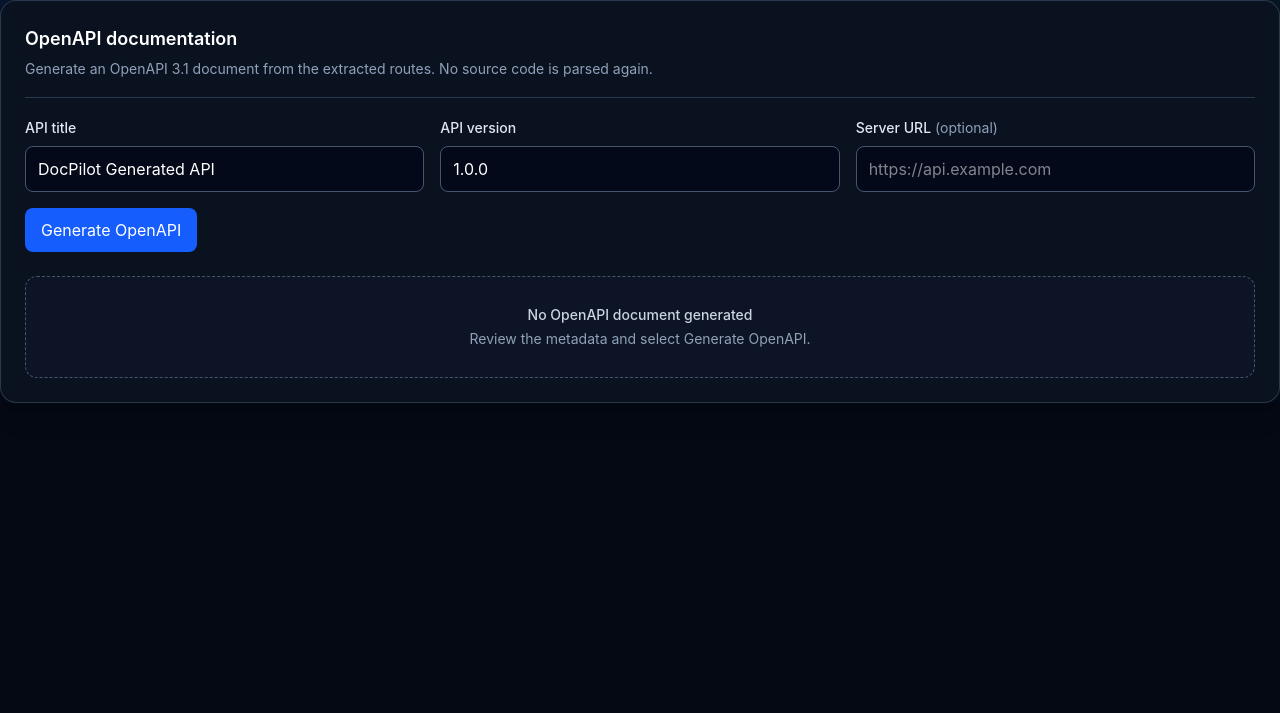
Scenario: OpenApiPanel › renders duplicate and unsupported warnings and switches previews
Click the button "Generate OpenAPI".
click(111, 230)  # box [25,208,197,252]
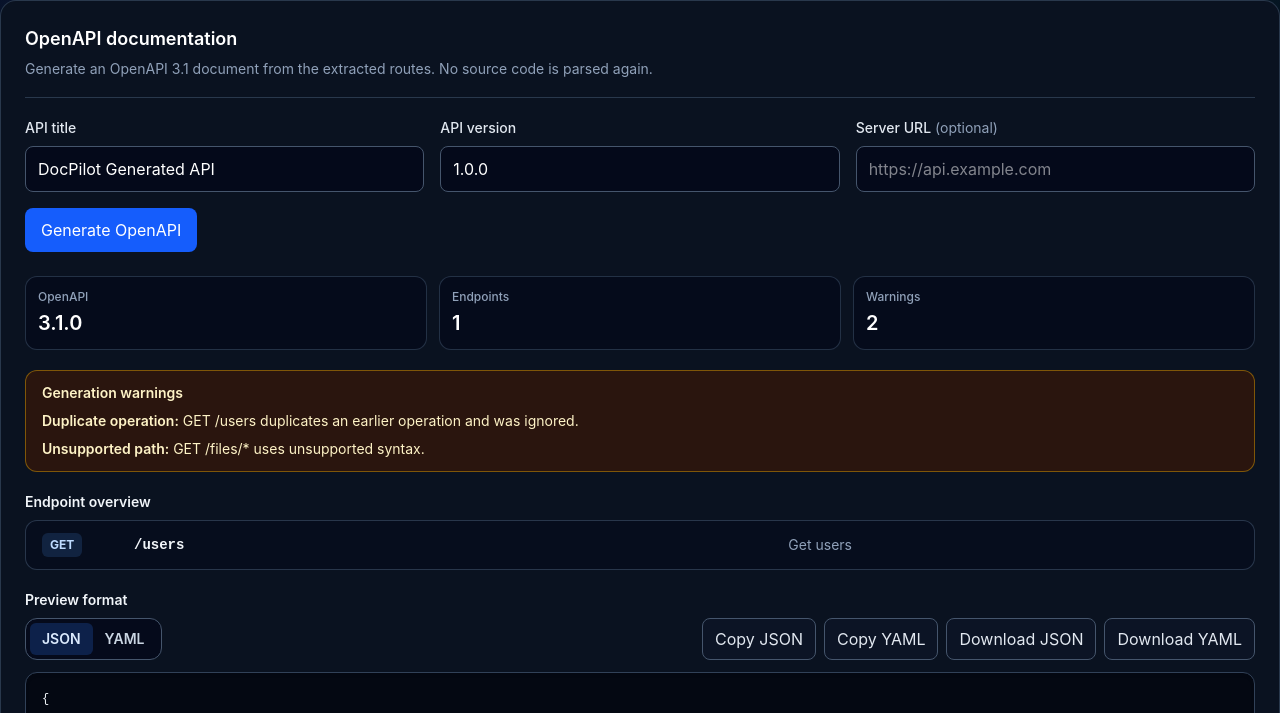
Expected: the text "Generation warnings" is shown, [42,384,183,401]
Expected: the text "Duplicate operation:" is shown, [42,412,179,429]
Expected: the text "Unsupported path:" is shown, [42,440,169,457]
Click the radio button labelled "YAML".
click(125, 638)  # box [105,630,144,647]
(page scrolled)
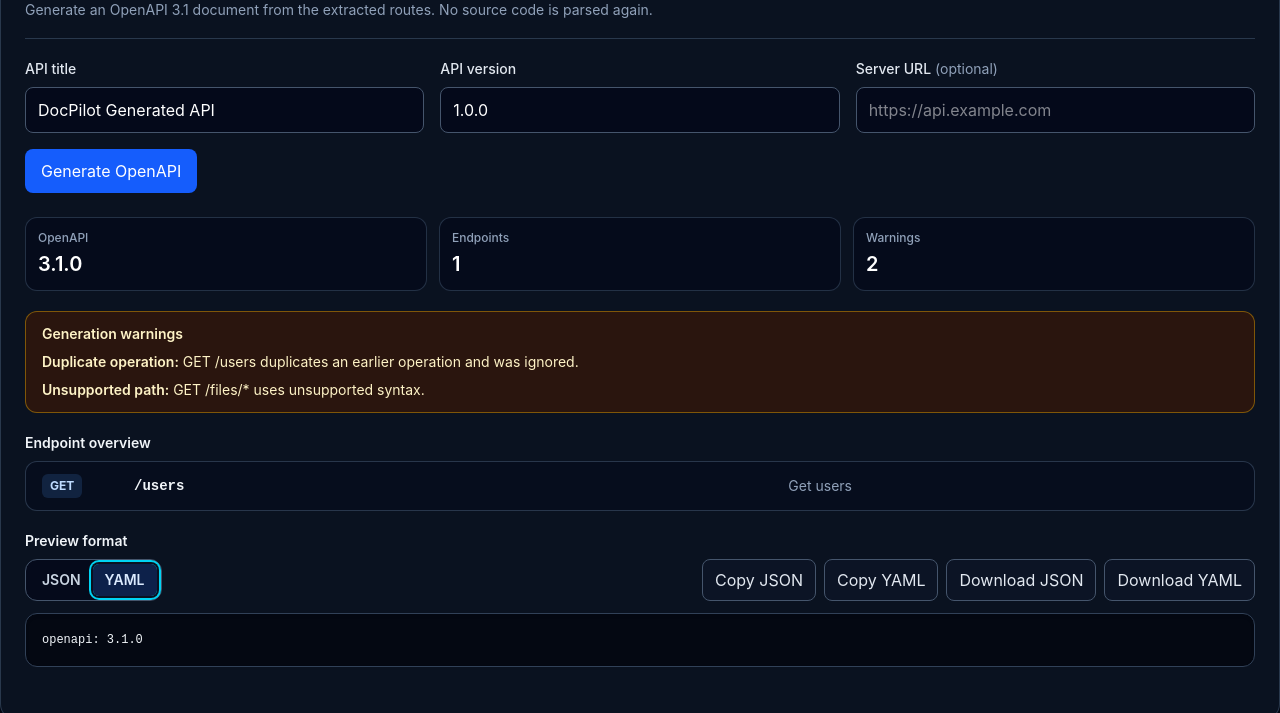
Expected: the element named "OpenAPI YAML preview" reads "openapi: 3.1.0", [42,633,143,647]
